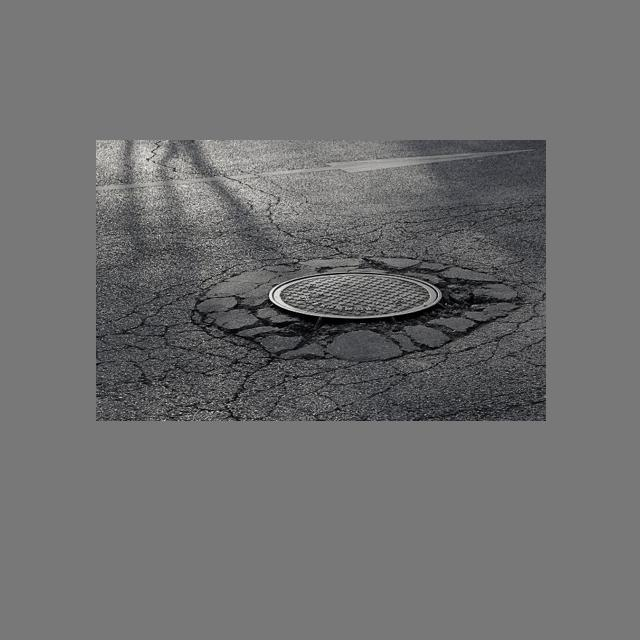circle: (189, 243, 503, 373)
